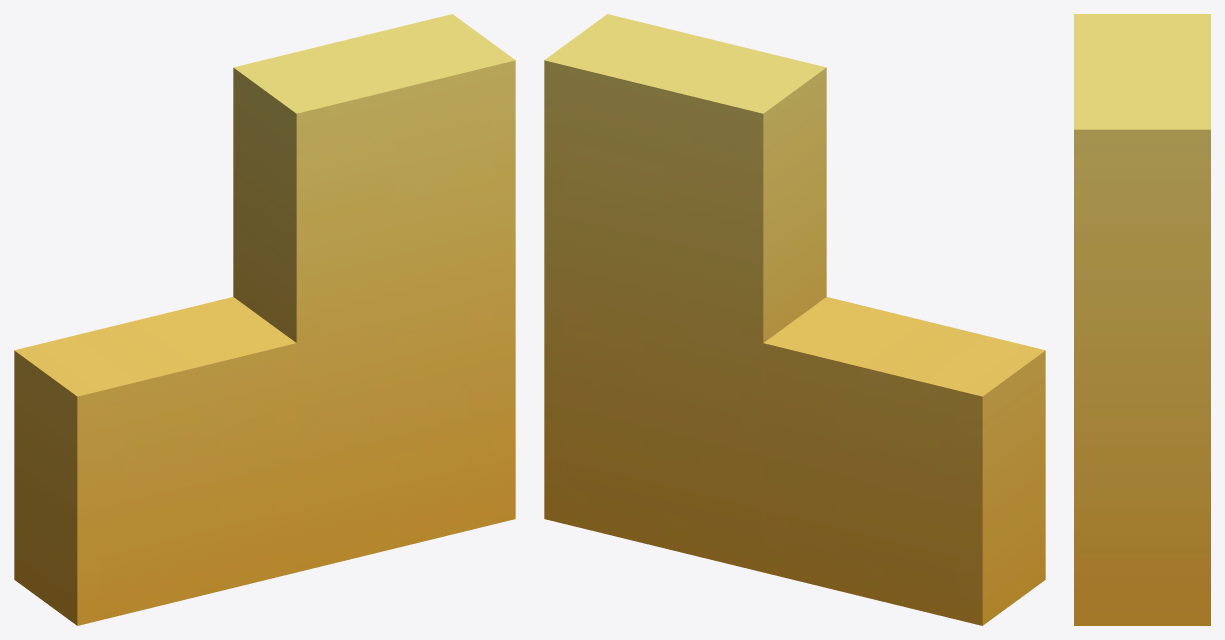
Rendered from kaykit-prototype-bits-primitive-wall-open-corner.glb.
3 renders of one model, left to right at view 1: azimuth 30°, elevation 25°; view 2: azimuth 150°, elevation 25°; view 3: azimuth 270°, elevation 25°, orthographic. The views are drawn at different scales.
Parts seen in each view (by area): view 1: Primitive_Wall_OpenCorner; view 2: Primitive_Wall_OpenCorner; view 3: Primitive_Wall_OpenCorner.
Boxes of the visible parts, <box> form: Primitive_Wall_OpenCorner: <box>14,14,515,625</box>; Primitive_Wall_OpenCorner: <box>544,14,1045,625</box>; Primitive_Wall_OpenCorner: <box>1074,14,1210,625</box>.
Bounding box in the file's own units: 4 × 4 × 1.
1 material, 1 textured.
